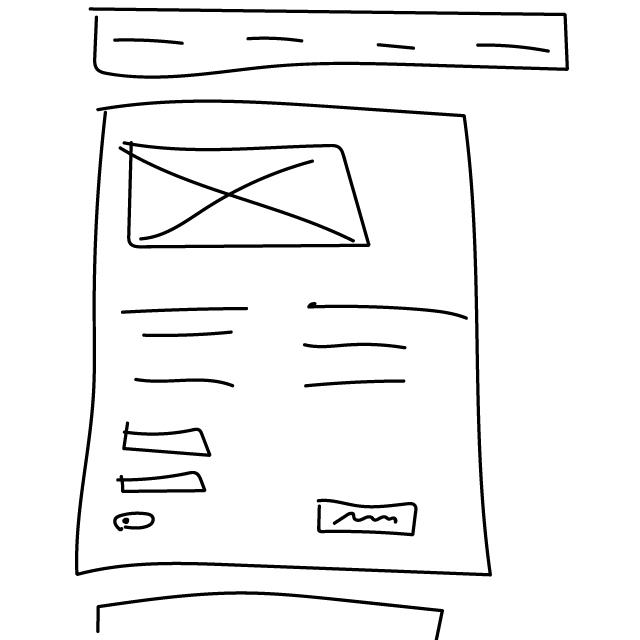buttonrotation: (312, 493, 427, 542)
checkboxrotation: (111, 510, 159, 533)
containerrotation: (73, 98, 505, 585)
footerrotation: (84, 588, 455, 639)
framerotation: (119, 136, 375, 253)
inputrotation: (118, 422, 219, 460), (115, 470, 211, 498)
navrotation: (86, 4, 576, 85)
textrotation: (299, 301, 471, 392), (123, 302, 255, 396)
